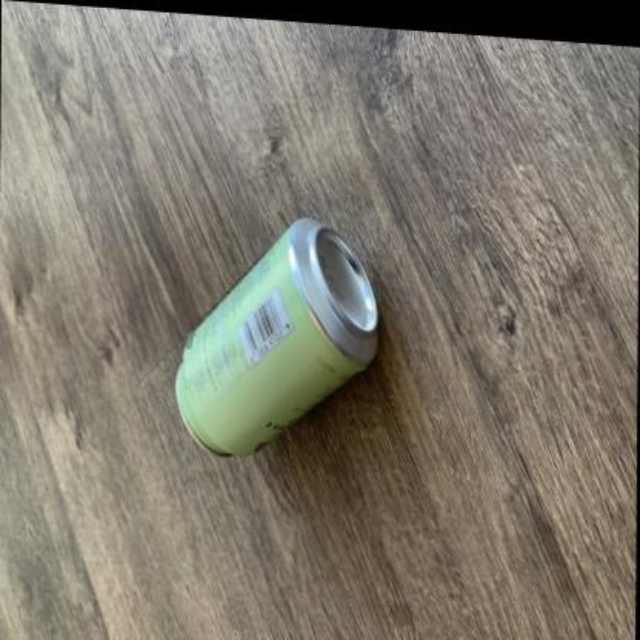trash: (175, 218, 377, 454)
